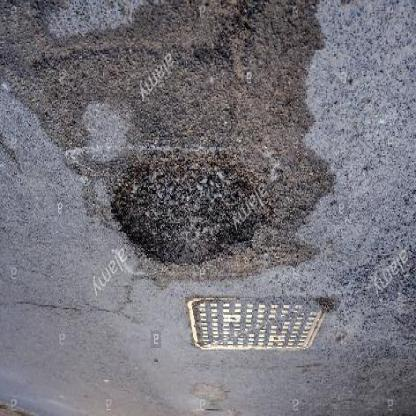pothole: (111, 156, 278, 270)
